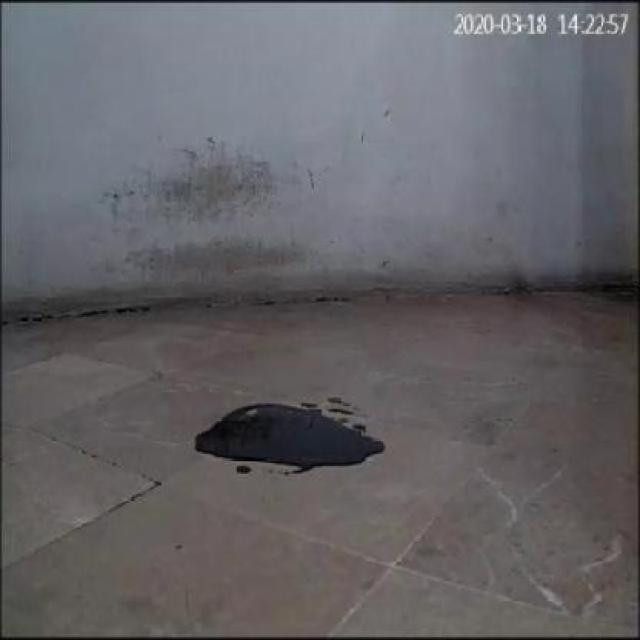spillage: (193, 403, 397, 468)
